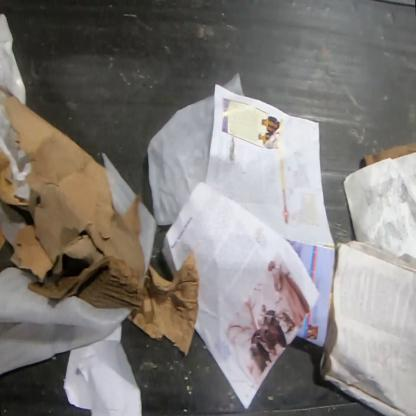cardboard: (0, 85, 148, 311), (127, 254, 200, 355), (363, 143, 415, 167)
